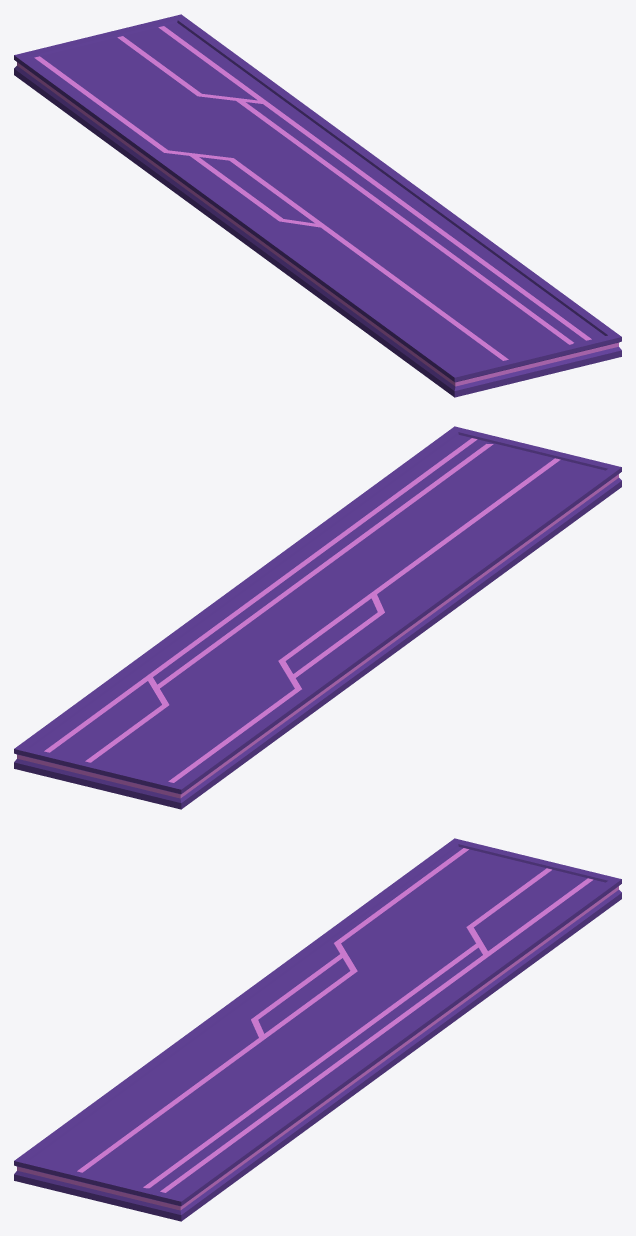
The model's file is Floor_platform_3.fbx.
3 views of the same model, one above another, from view 1: azimuth 30°, elevation 25°; view 2: azimuth 150°, elevation 25°; view 3: azimuth 330°, elevation 25° (orthographic).
Visible parts, largest first — view 1: Floor_platform_3; view 2: Floor_platform_3; view 3: Floor_platform_3.
Part boxes in pixels (box(x1,y1,x2,y2)): Floor_platform_3: box(14, 14, 621, 397); Floor_platform_3: box(14, 426, 621, 809); Floor_platform_3: box(14, 838, 621, 1221).
Size of the model in its own units: 316 by 35.85 by 1442.
